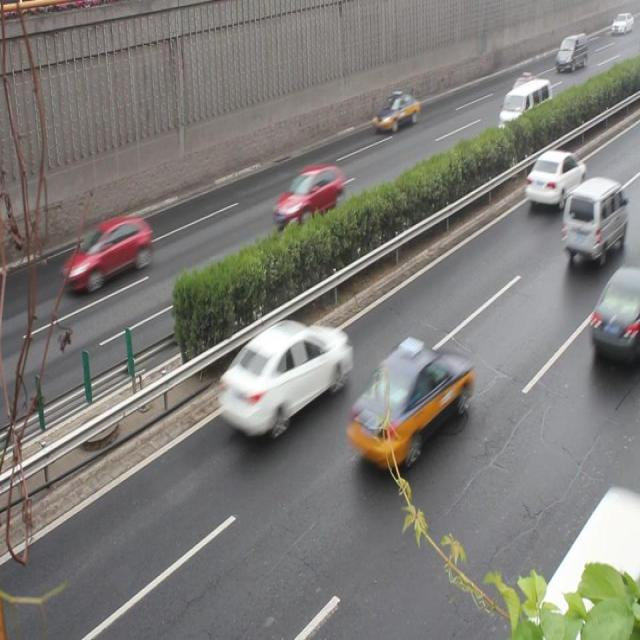car: (217, 319, 349, 436), (348, 341, 470, 465), (61, 214, 152, 297), (588, 266, 640, 362), (273, 164, 344, 231), (524, 149, 583, 208), (371, 91, 418, 133), (502, 74, 544, 118)
truck: (560, 176, 624, 260), (498, 81, 553, 136)
